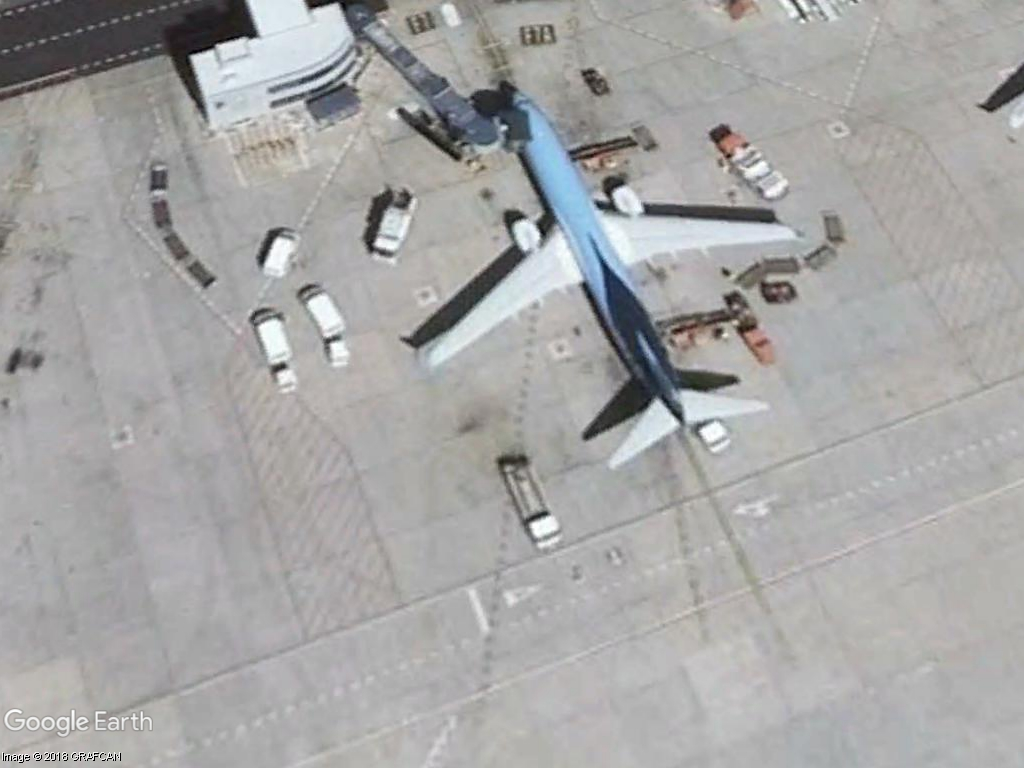airliner: (397, 83, 810, 488)
truck: (252, 225, 308, 281), (292, 286, 348, 342), (247, 308, 297, 370)
